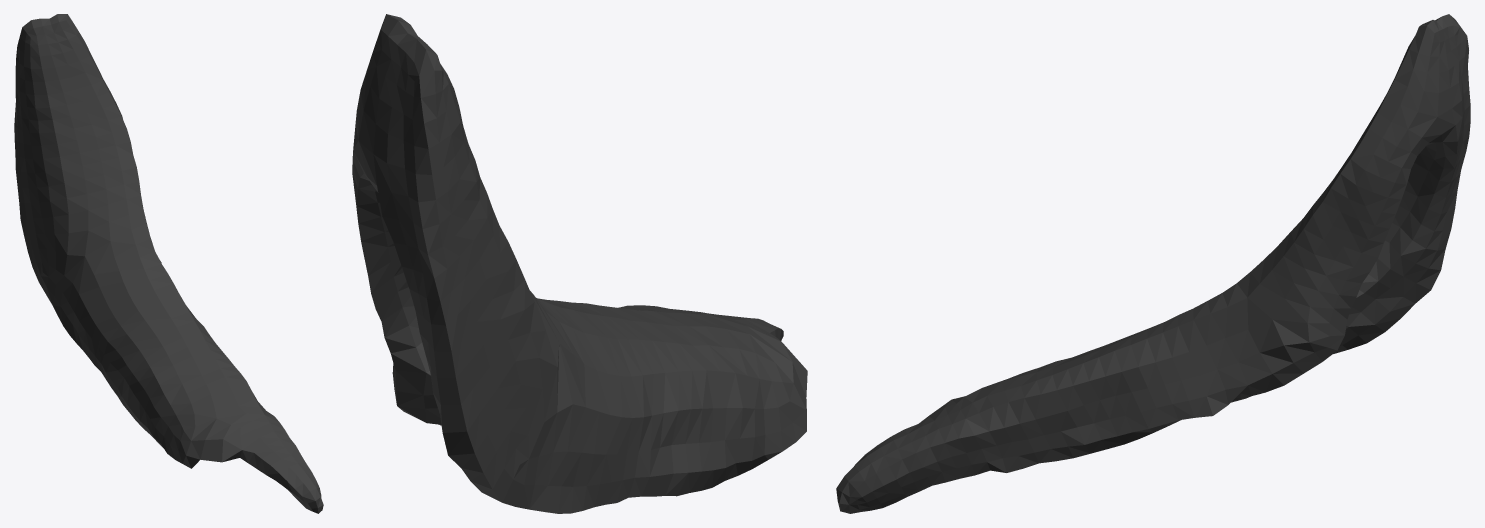
File: Nasal_bone_L.glb
The picture shows the model from 3 angles, left to right: view 1: azimuth 30°, elevation 25°; view 2: azimuth 150°, elevation 25°; view 3: azimuth 270°, elevation 25°; orthographic projection. The views are drawn at different scales.
Parts seen in each view (by area): view 1: Nasal_bone_L; view 2: Nasal_bone_L; view 3: Nasal_bone_L.
Part boxes in pixels (box(x1,y1,x2,y2)): Nasal_bone_L: box(14, 14, 323, 513); Nasal_bone_L: box(352, 14, 807, 513); Nasal_bone_L: box(836, 14, 1470, 513).
Bounding box in the file's own units: 51.18 × 185 × 228.
1 material, 1 textured.
